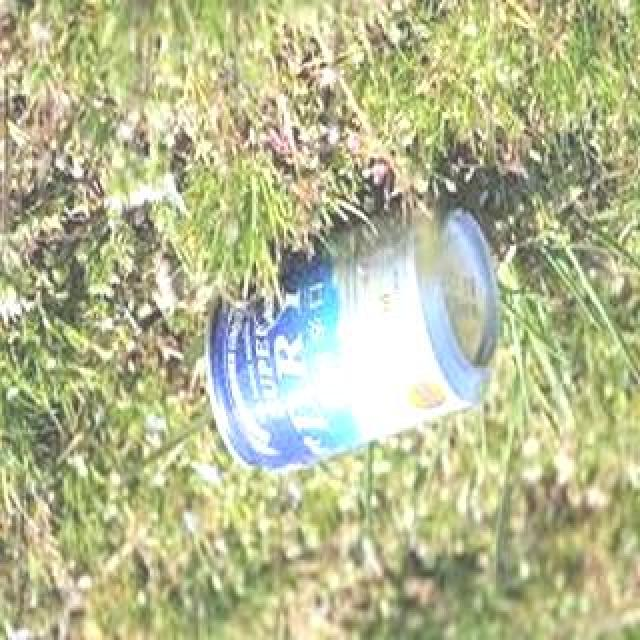Can: (211, 199, 515, 475)
